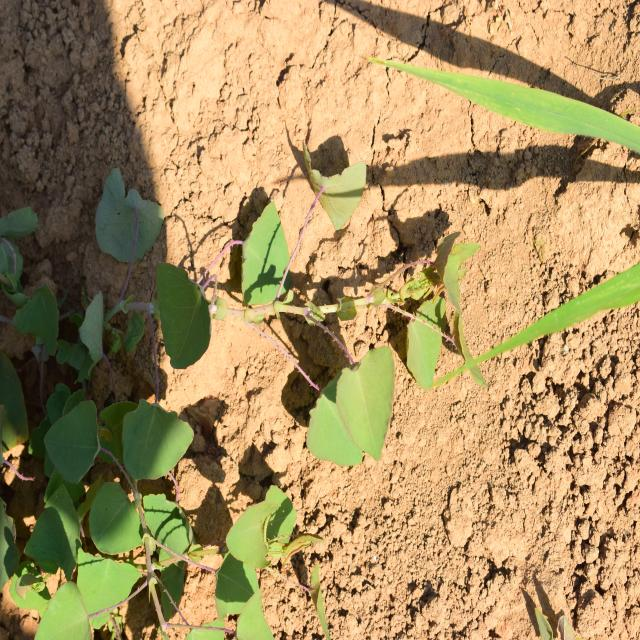Asiatic_Smartweed: (233, 152, 487, 468), (17, 392, 272, 635), (88, 156, 226, 368)
